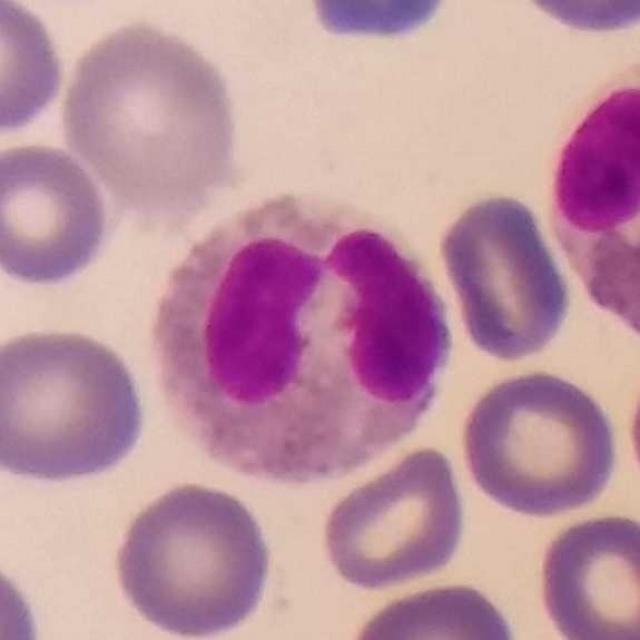eosino: (148, 184, 450, 481)
